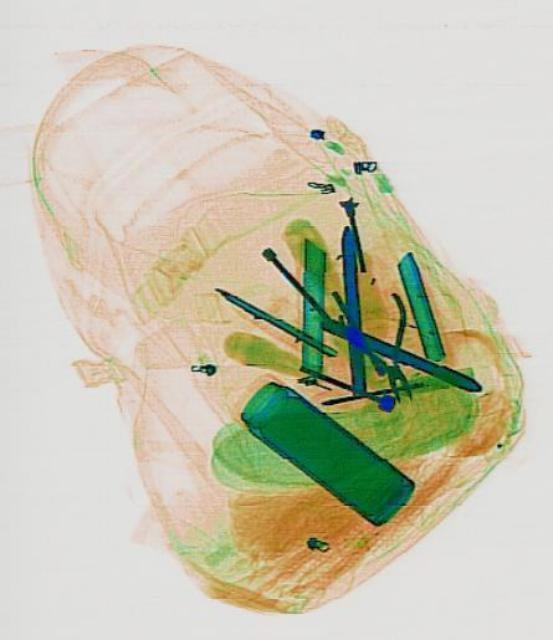Pliers: (330, 266, 431, 414)
